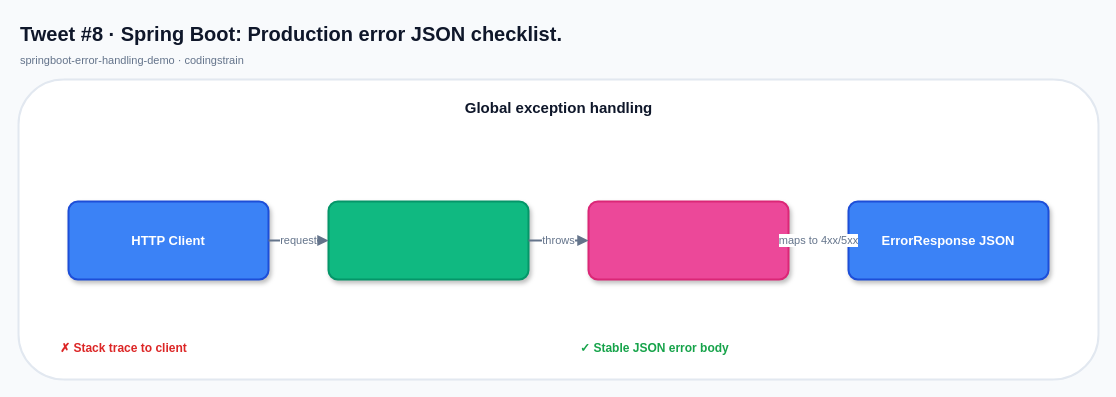
Image size: 1116x397. Some labels were removed from this diagram. The centre of each missing label's shape, as x and y in pixels:
"@RestControllerAdvice" goes at (689,241).
"Controller" goes at (429,241).
